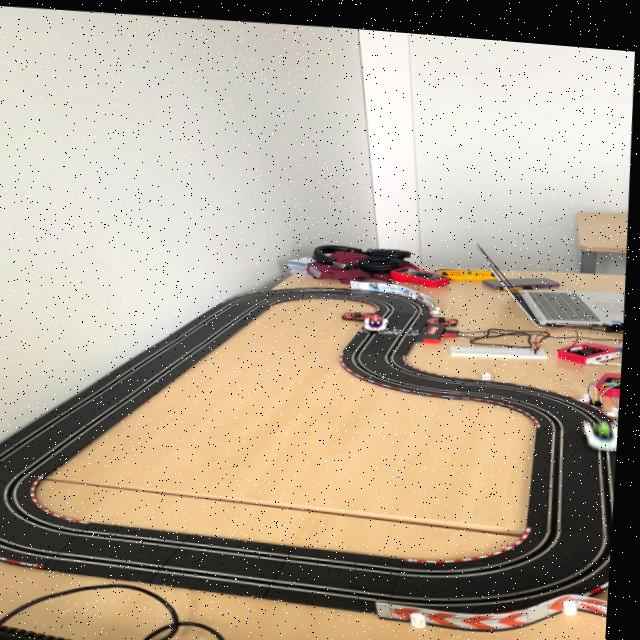mario: (365, 305, 395, 327)
yoshi: (582, 404, 623, 444)
